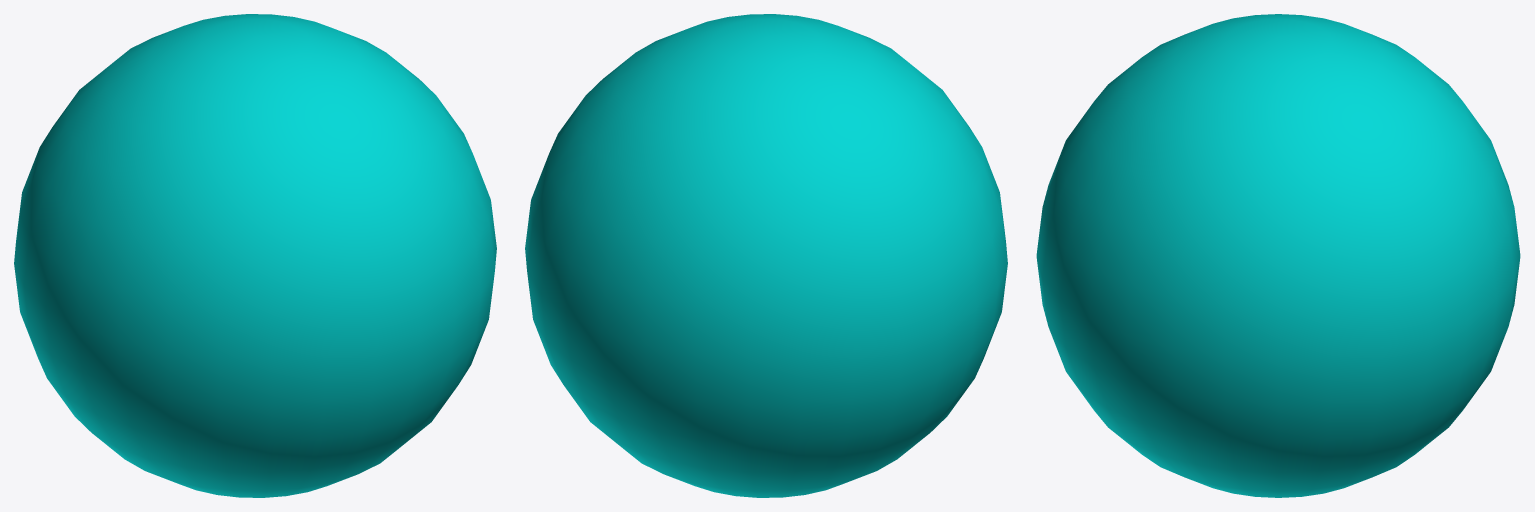
Rendered from beachball.fbx.
3 renders of one model, left to right at view 1: azimuth 30°, elevation 25°; view 2: azimuth 150°, elevation 25°; view 3: azimuth 270°, elevation 25°, orthographic.
Visible parts, largest first — view 1: Sphere; view 2: Sphere; view 3: Sphere.
Part boxes in pixels (bbox=[...]): Sphere: bbox=[14, 14, 496, 497]; Sphere: bbox=[525, 14, 1007, 497]; Sphere: bbox=[1036, 14, 1520, 497].
Bounding box in the file's own units: 298 × 298 × 298.
